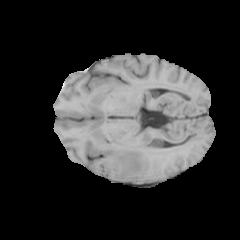glioma: (88, 142, 160, 183)
